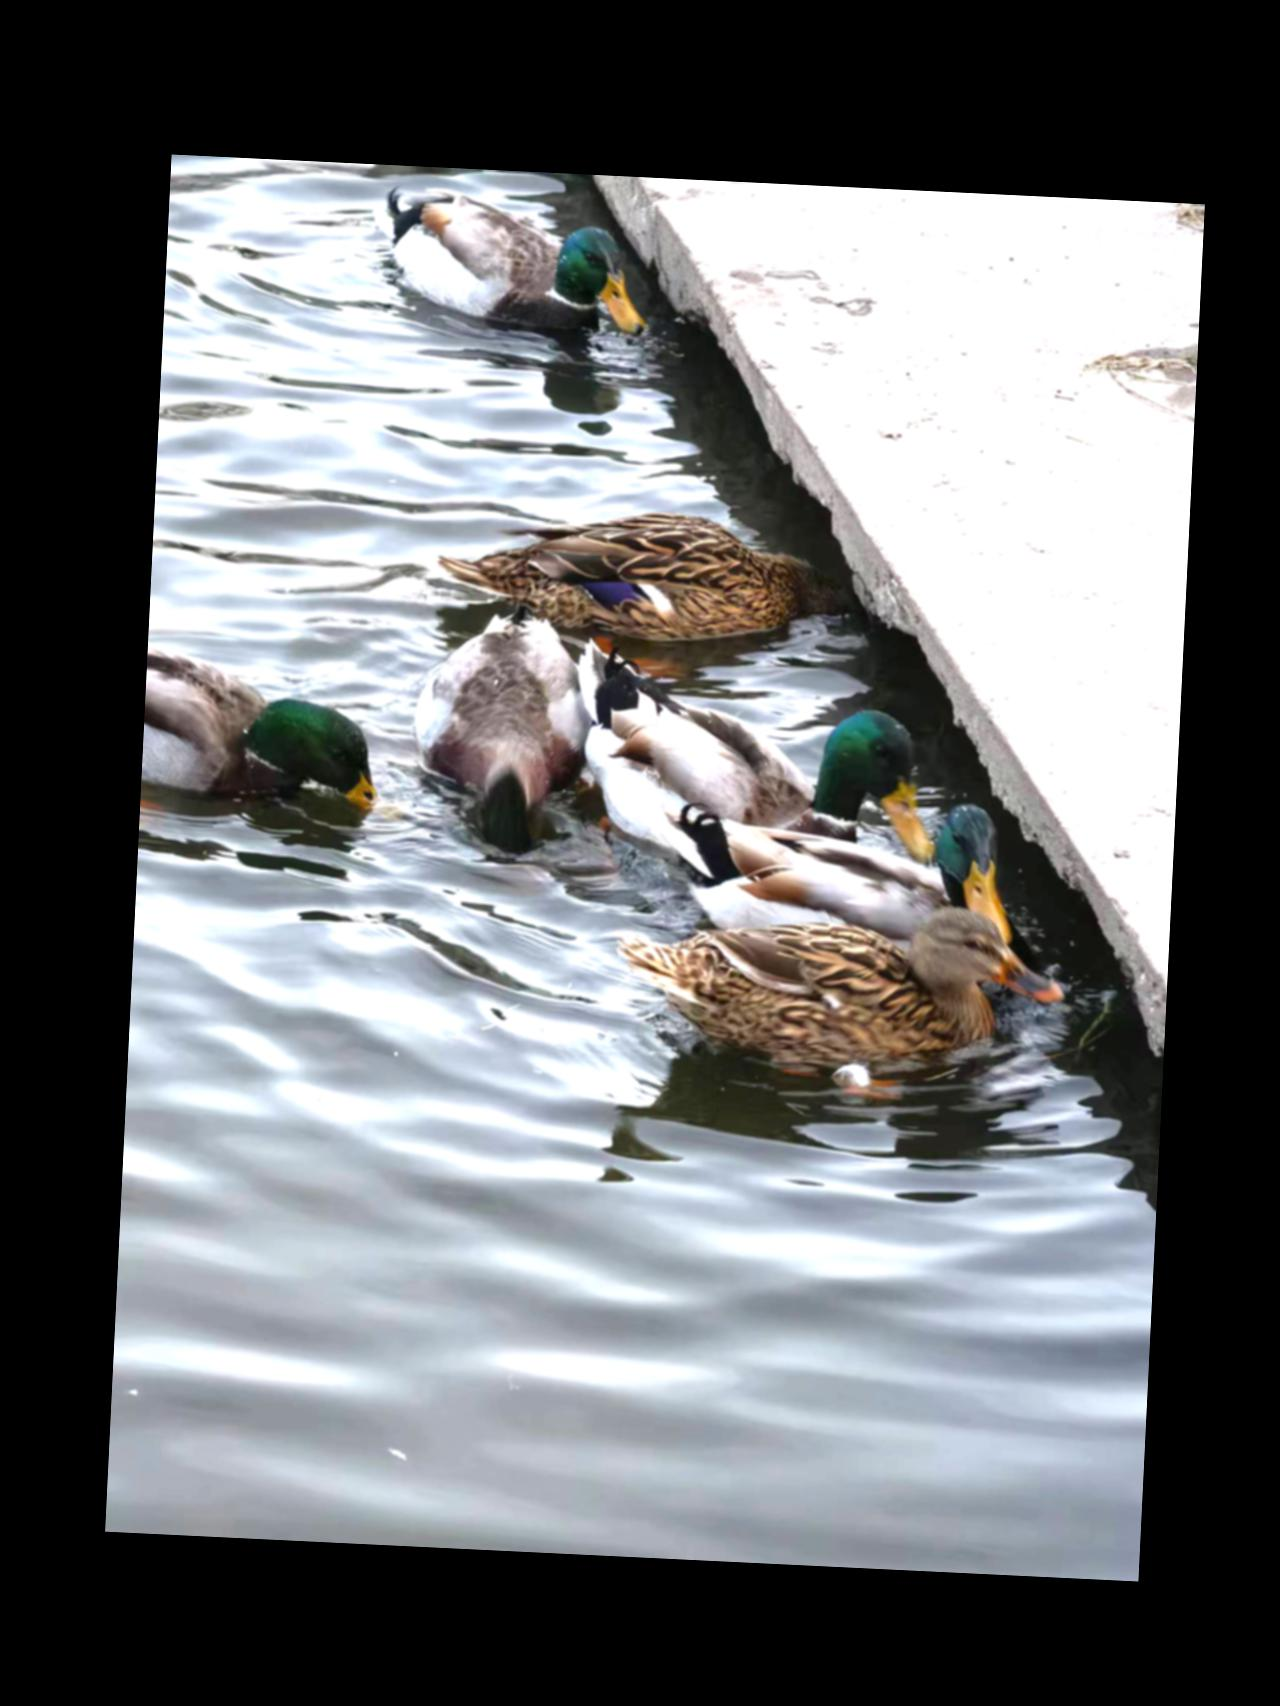duck: (545, 665, 932, 879), (605, 893, 1054, 1071), (387, 485, 858, 647), (644, 774, 1029, 965), (342, 175, 670, 380), (401, 604, 598, 839), (138, 643, 406, 815)
